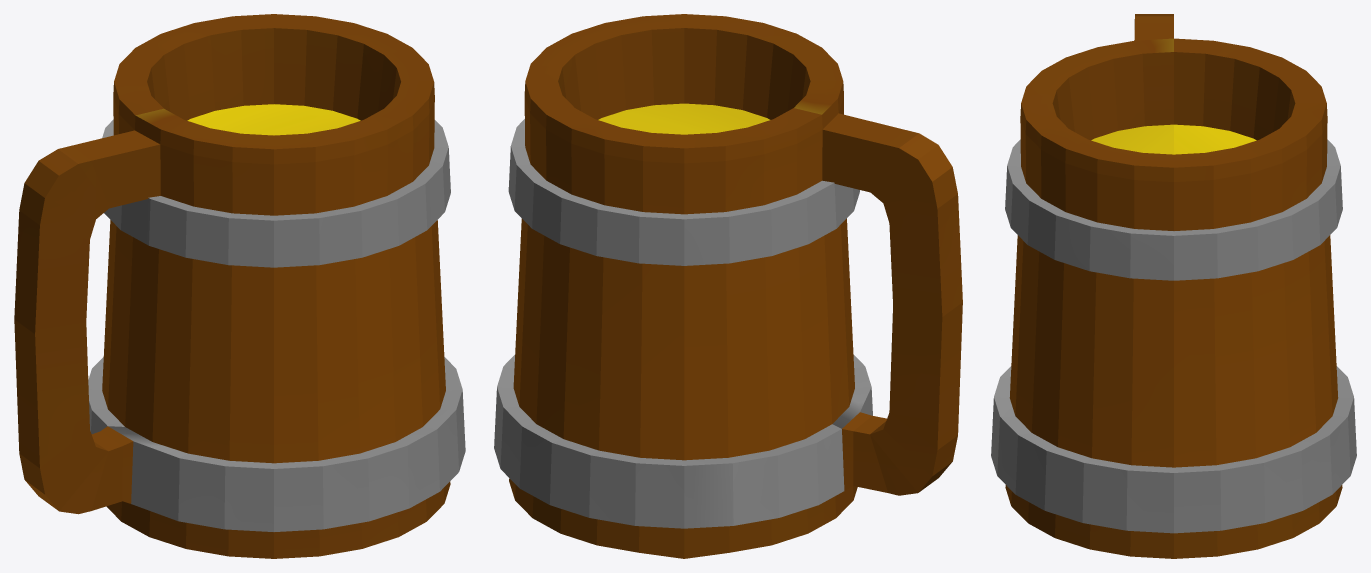
Rendered from beer.fbx.
3 renders of one model, left to right at view 1: azimuth 30°, elevation 25°; view 2: azimuth 150°, elevation 25°; view 3: azimuth 270°, elevation 25°, orthographic. The views are drawn at different scales.
Parts seen in each view (by area): view 1: Cylinder; view 2: Cylinder; view 3: Cylinder.
Boxes of the visible parts, x1,y1,x2,y2 form: Cylinder: (14,14,465,558); Cylinder: (494,14,962,558); Cylinder: (991,14,1356,558).
Bounding box in the file's own units: 22.1 × 20.15 × 17.23.
